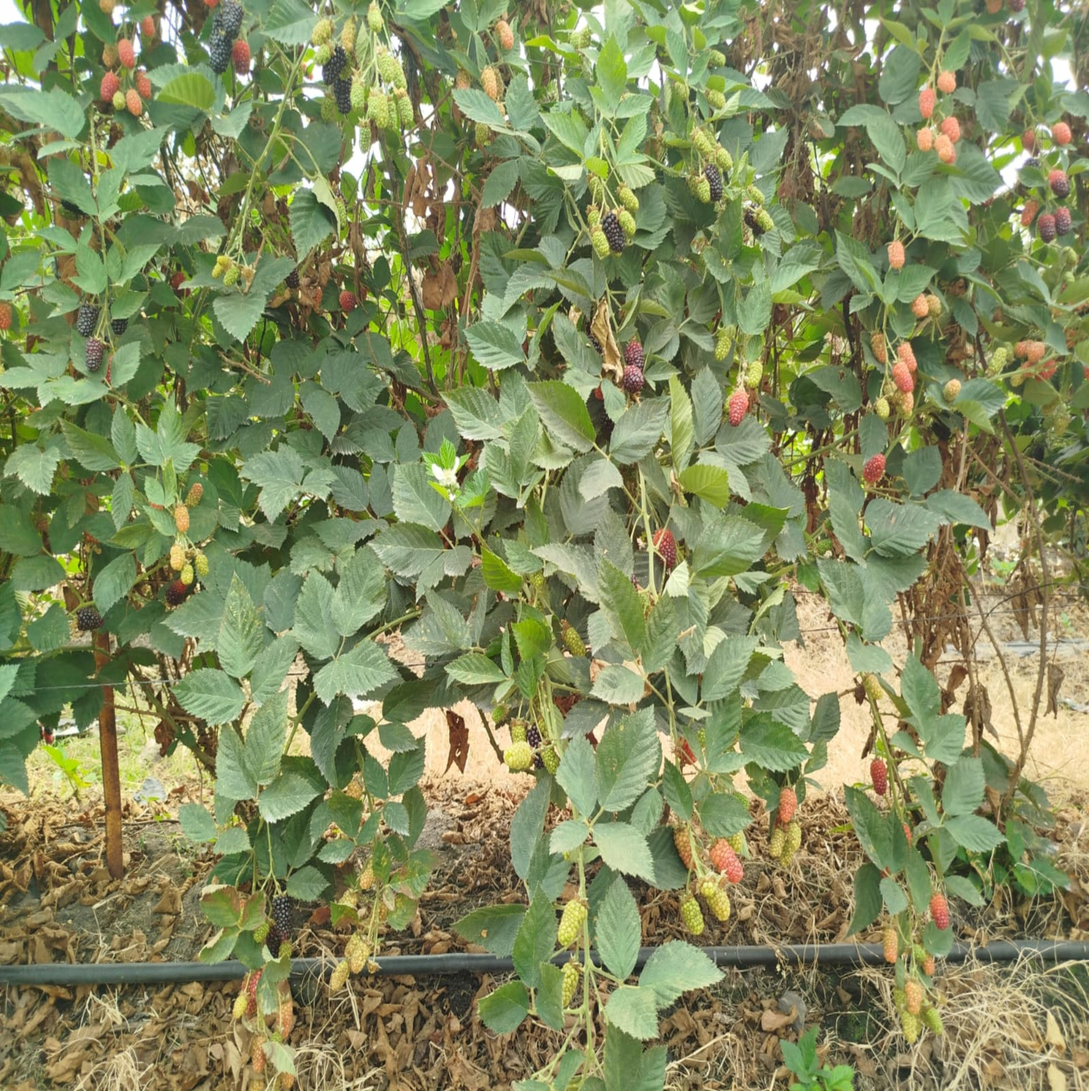flor: (431, 465, 458, 493)
maduro: (601, 212, 626, 253), (322, 45, 348, 84), (210, 30, 233, 74), (220, 0, 244, 39), (272, 895, 293, 938), (75, 302, 100, 338), (703, 163, 723, 203), (331, 77, 352, 115), (743, 207, 764, 237), (265, 925, 284, 958), (77, 606, 102, 631), (527, 724, 541, 749), (111, 318, 128, 335)
marron: (653, 529, 677, 570), (232, 37, 251, 76), (85, 337, 105, 372), (625, 339, 645, 370), (1049, 169, 1070, 198), (623, 365, 644, 394), (871, 758, 887, 796), (166, 579, 188, 606), (1037, 212, 1056, 243), (1055, 207, 1071, 235), (340, 290, 356, 311)
naranja: (710, 838, 743, 883), (673, 825, 692, 868), (246, 969, 263, 1016), (778, 785, 797, 825), (904, 977, 924, 1015), (728, 389, 748, 426), (892, 361, 914, 393), (930, 892, 949, 929), (864, 453, 886, 484), (494, 17, 514, 50), (278, 999, 294, 1040), (100, 71, 120, 103), (897, 341, 917, 373), (883, 924, 899, 964), (481, 66, 499, 101), (117, 37, 136, 70), (251, 1035, 266, 1074), (919, 86, 936, 119), (935, 135, 955, 163), (887, 239, 905, 270), (135, 69, 152, 101), (871, 331, 887, 365), (126, 87, 144, 117), (940, 116, 960, 143), (1021, 199, 1040, 227), (174, 503, 190, 534), (1052, 121, 1072, 145), (185, 482, 203, 508), (894, 392, 914, 415), (1027, 341, 1046, 365), (936, 71, 956, 93), (1037, 360, 1057, 381), (916, 127, 933, 151), (911, 294, 928, 318), (454, 69, 471, 89), (141, 15, 154, 40), (99, 0, 117, 16), (922, 954, 935, 976), (1022, 129, 1035, 150), (1014, 340, 1029, 357)
verde: (557, 899, 587, 948), (700, 878, 730, 922), (377, 46, 406, 88), (367, 84, 390, 128), (681, 894, 704, 936), (346, 932, 369, 973), (504, 741, 533, 772), (562, 959, 580, 1008), (563, 621, 586, 657), (987, 345, 1010, 376), (329, 960, 351, 992), (395, 90, 413, 128), (385, 93, 402, 133), (784, 819, 802, 856), (617, 184, 639, 214), (538, 746, 560, 776), (901, 1010, 920, 1044), (311, 17, 333, 46), (693, 128, 714, 158), (922, 1007, 943, 1036), (350, 74, 366, 112), (588, 173, 606, 206), (591, 227, 610, 258), (863, 673, 883, 702), (367, 0, 384, 34), (769, 825, 786, 859), (340, 17, 356, 52), (714, 327, 730, 361), (727, 831, 748, 856), (618, 210, 636, 239), (745, 360, 763, 389), (692, 176, 711, 203), (342, 775, 362, 799), (232, 991, 248, 1020), (706, 88, 726, 111), (170, 542, 185, 572), (359, 863, 375, 891), (253, 919, 270, 945), (757, 208, 775, 232), (943, 379, 961, 403), (211, 255, 229, 279), (873, 396, 890, 421), (716, 147, 733, 171), (194, 552, 209, 579), (475, 122, 491, 147), (358, 124, 371, 154), (102, 44, 118, 68), (315, 44, 332, 66), (926, 294, 942, 317), (223, 264, 239, 287), (492, 703, 508, 726), (340, 887, 358, 907), (747, 185, 764, 206), (587, 204, 601, 228), (511, 721, 526, 743), (893, 988, 906, 1013), (180, 564, 194, 585), (709, 49, 725, 67), (113, 91, 125, 109), (280, 940, 292, 956)
